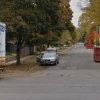Tree: (5, 0, 97, 43)
